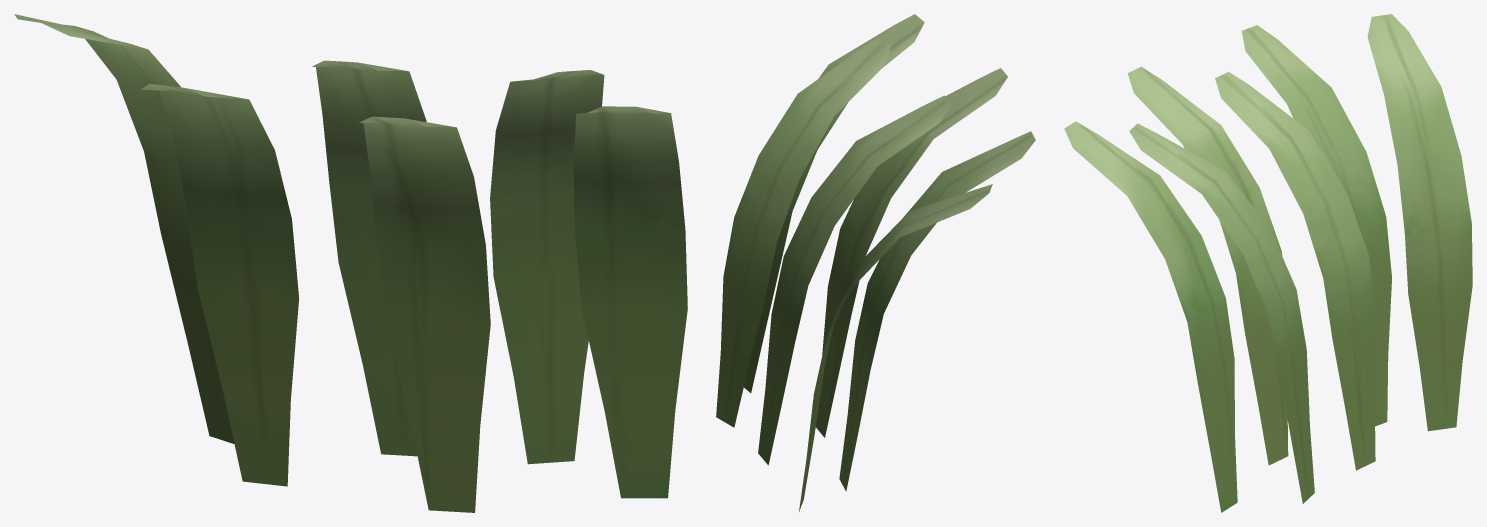
The model's file is grass_mesh 1.fbx.
3 renders of one model, left to right at view 1: azimuth 30°, elevation 25°; view 2: azimuth 150°, elevation 25°; view 3: azimuth 270°, elevation 25°, orthographic. The views are drawn at different scales.
Visible parts, largest first — view 1: Grass_mesh; view 2: Grass_mesh; view 3: Grass_mesh.
Boxes of the visible parts, x1,y1,x2,y2 form: Grass_mesh: (14,14,687,512); Grass_mesh: (716,14,1035,511); Grass_mesh: (1064,14,1472,512).
Size of the model in its own units: 58.92 by 56.18 by 61.44.
